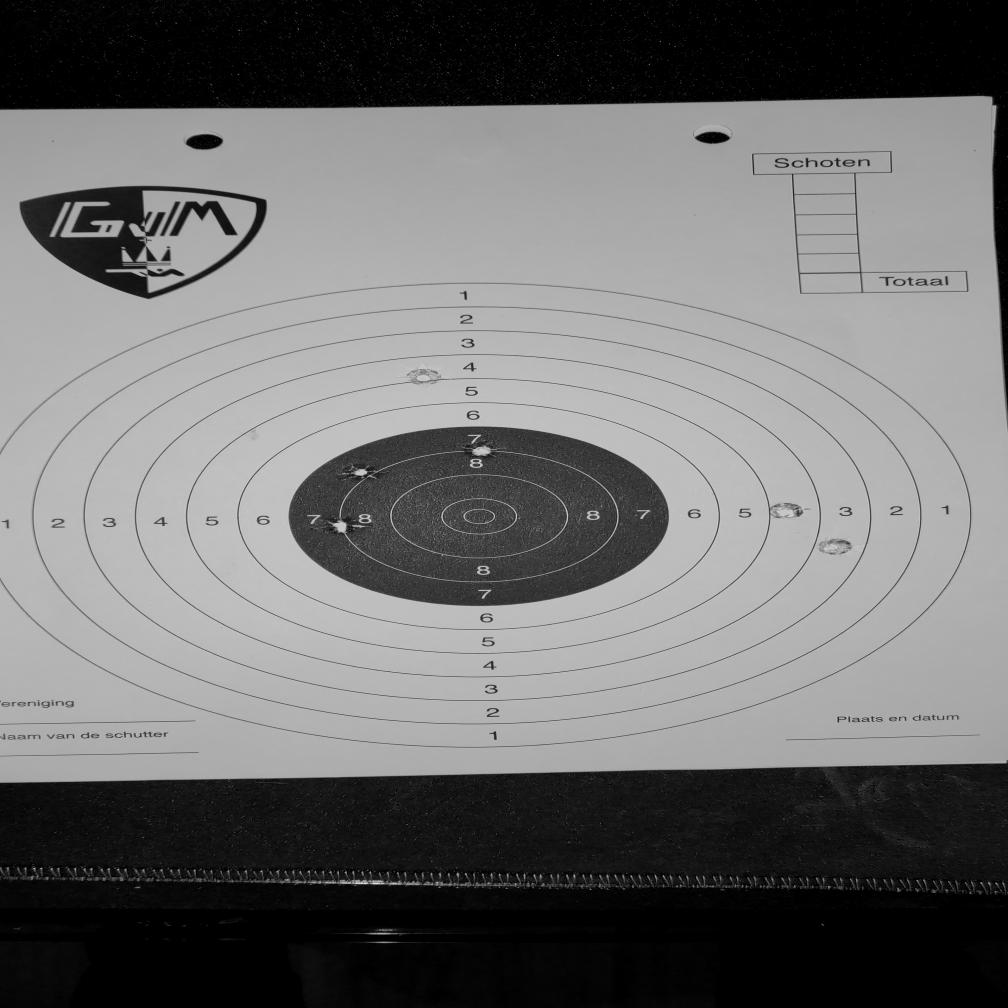3: (815, 538, 863, 556)
4: (770, 502, 804, 519)
5: (396, 366, 450, 388)
8: (315, 516, 370, 536), (458, 441, 509, 459), (336, 464, 390, 480)
Target: (0, 280, 973, 748)
black_contour: (287, 427, 672, 607)
